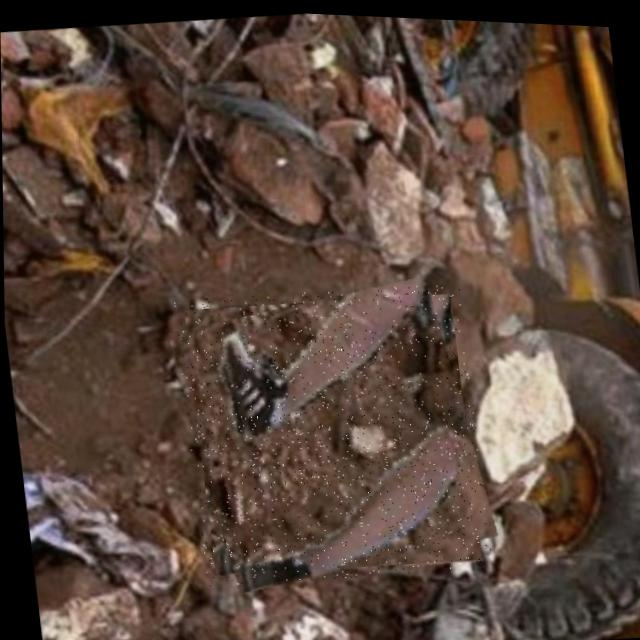Person in Rubble: (171, 268, 490, 594)
